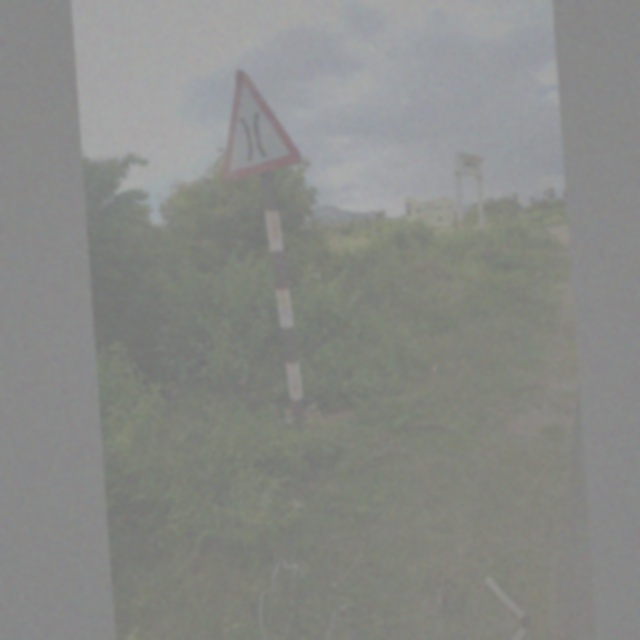Narrow_Bridge: (204, 59, 311, 180)
